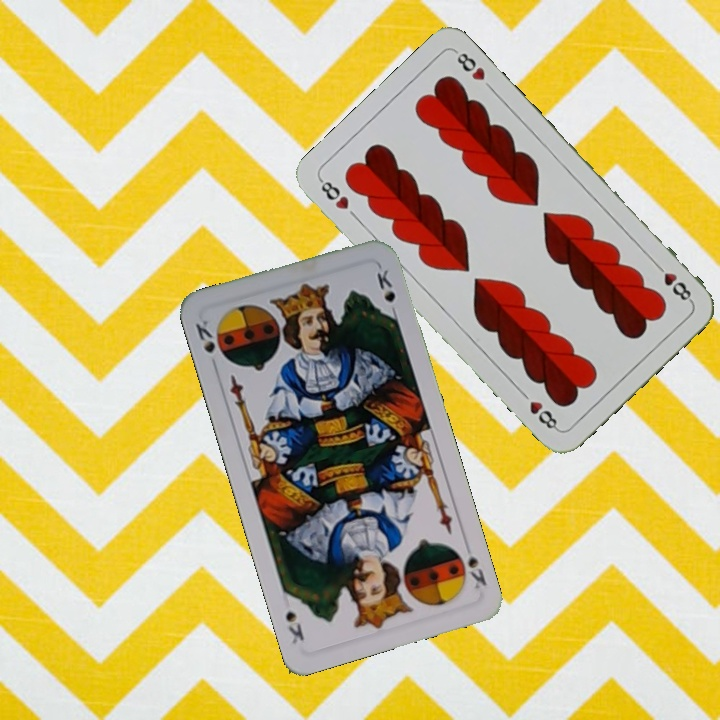H8: (649, 258, 695, 305), (315, 175, 352, 212)
SK: (451, 537, 490, 591), (191, 315, 218, 356)
